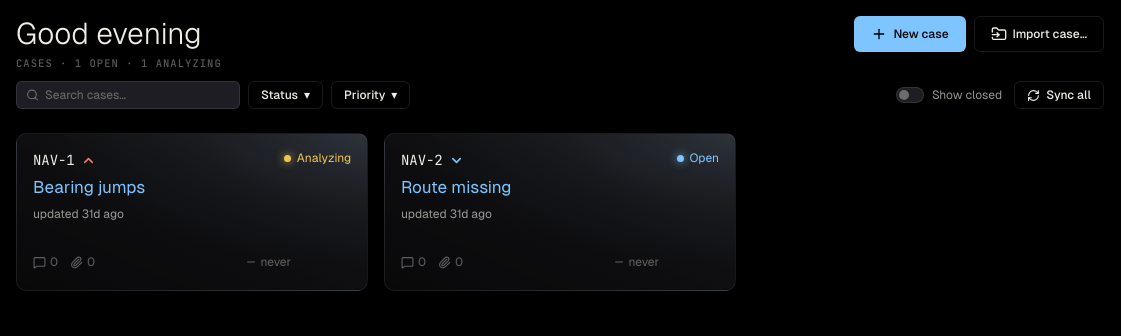
Test: CaseDashboard › filters by phase
The width and height of the screenshot is (1121, 336).
Click the button "Status ▾" at (286, 95), box [248,81,323,109]
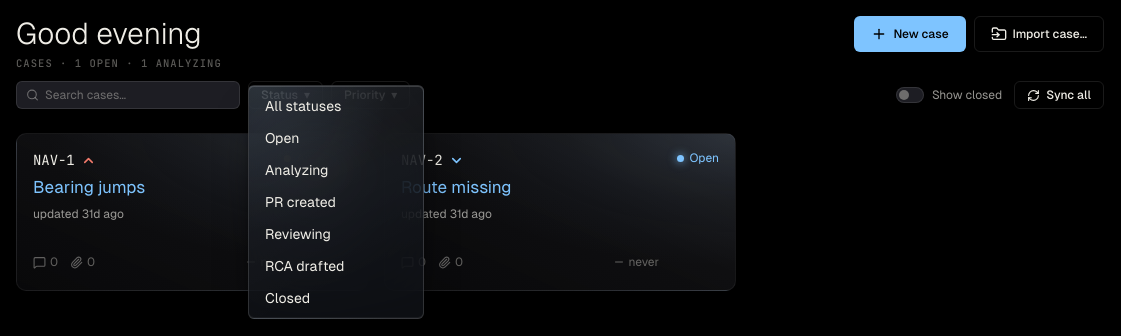
Click the menu item "Open" at (336, 138), box [253,122,419,154]
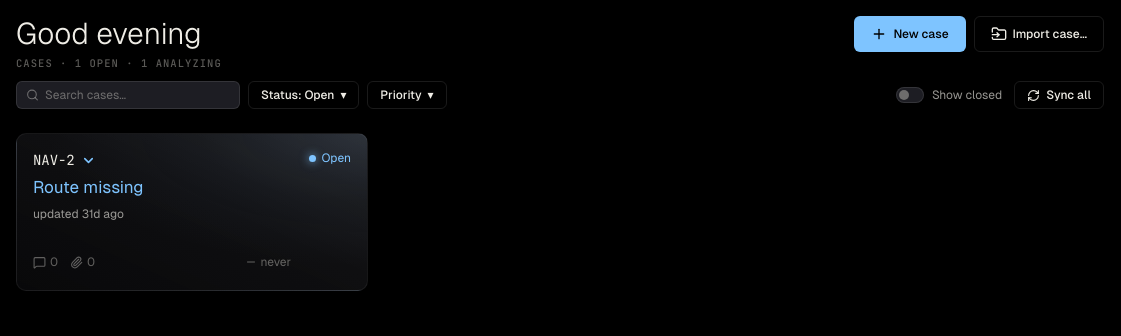
Expected: the heading "Route missing" is shown, [33,177,143,197]
Result: the heading "Bearing jumps" is gone
